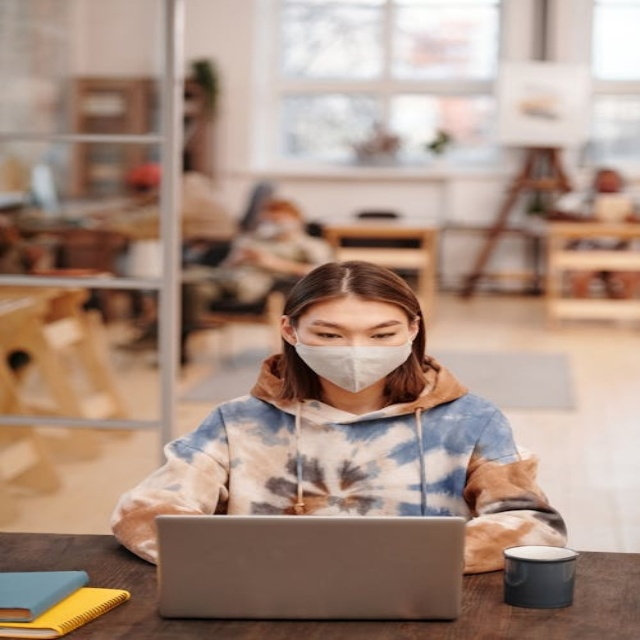Mascara: (292, 340, 420, 400)
Sin_gafas: (294, 321, 406, 346)
